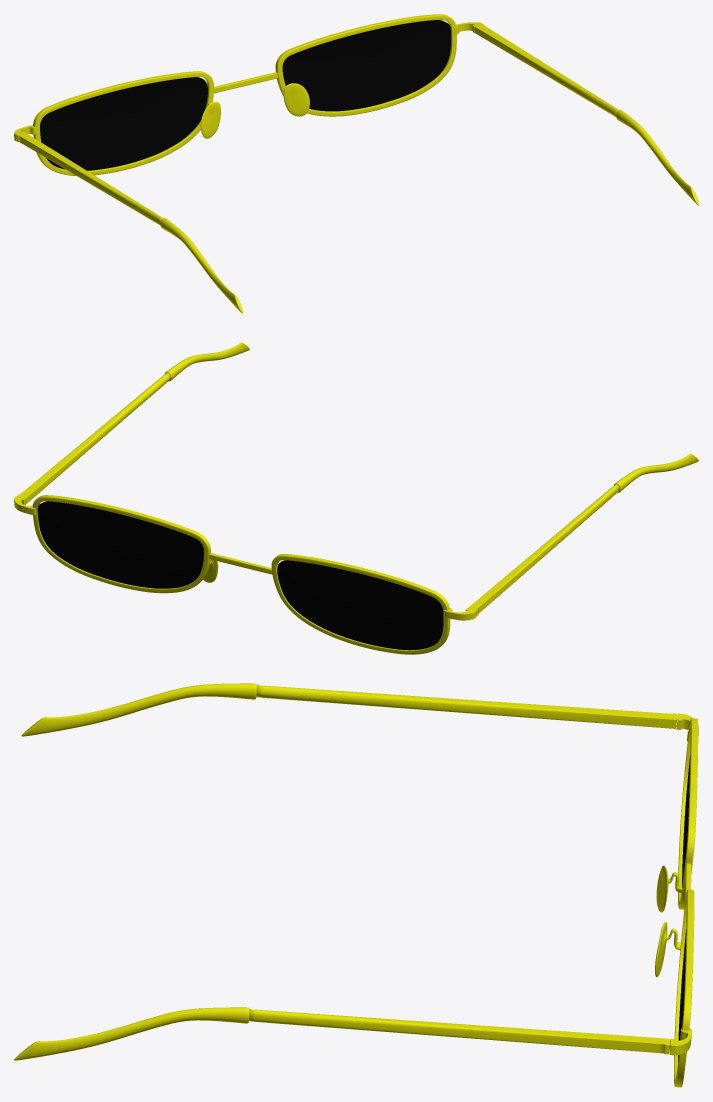
The picture shows the model from 3 angles, top to bottom: view 1: azimuth 30°, elevation 25°; view 2: azimuth 150°, elevation 25°; view 3: azimuth 270°, elevation 25°; orthographic projection. The views are drawn at different scales.
Parts seen in each view (by area): view 1: _Metal_Frame_Reading_Glasses_V2_Max2011_iterations_2:Object0, _Metal_Frame_Reading_Glasses_V2_Max2011_iterations_2:_Metal_; view 2: _Metal_Frame_Reading_Glasses_V2_Max2011_iterations_2:Object0, _Metal_Frame_Reading_Glasses_V2_Max2011_iterations_2:_Metal_; view 3: _Metal_Frame_Reading_Glasses_V2_Max2011_iterations_2:_Metal_, _Metal_Frame_Reading_Glasses_V2_Max2011_iterations_2:Object0.
Part boxes in pixels (x1,y1,x2,y2): _Metal_Frame_Reading_Glasses_V2_Max2011_iterations_2:Object0: (40, 20, 450, 170); _Metal_Frame_Reading_Glasses_V2_Max2011_iterations_2:_Metal_: (14, 14, 698, 313); _Metal_Frame_Reading_Glasses_V2_Max2011_iterations_2:Object0: (37, 501, 443, 650); _Metal_Frame_Reading_Glasses_V2_Max2011_iterations_2:_Metal_: (14, 342, 698, 654); _Metal_Frame_Reading_Glasses_V2_Max2011_iterations_2:_Metal_: (14, 683, 698, 1087); _Metal_Frame_Reading_Glasses_V2_Max2011_iterations_2:Object0: (678, 755, 690, 1061).
Size of the model in its own units: 15.49 by 2.69 by 13.53.
